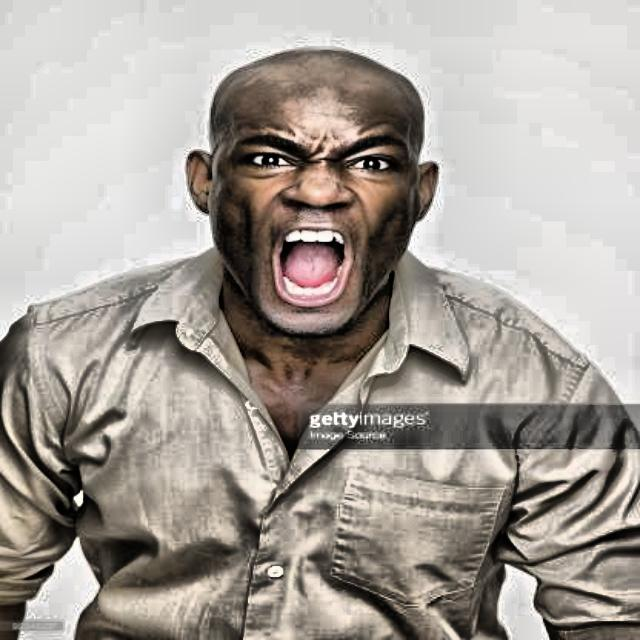angry: (167, 46, 468, 356)
